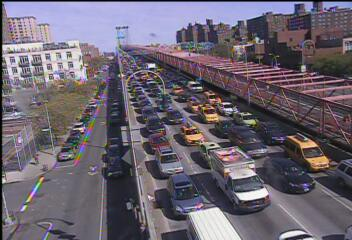neg: (228, 34, 265, 84), (93, 19, 128, 65), (132, 103, 165, 147), (46, 38, 71, 71), (212, 132, 236, 165), (293, 122, 317, 154), (290, 27, 313, 58), (9, 113, 28, 139), (47, 203, 66, 228), (52, 144, 69, 166), (123, 194, 140, 216), (187, 190, 203, 211), (73, 177, 88, 197), (197, 44, 211, 63), (158, 47, 168, 61)
pos: (31, 149, 45, 168)
